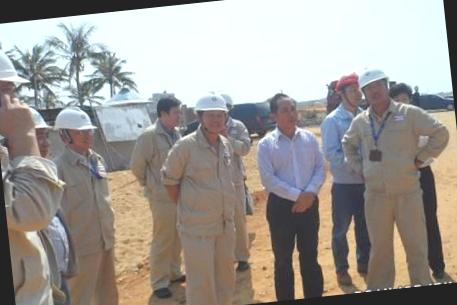no_helmet: (266, 88, 300, 134), (152, 90, 184, 130), (386, 79, 415, 113)
